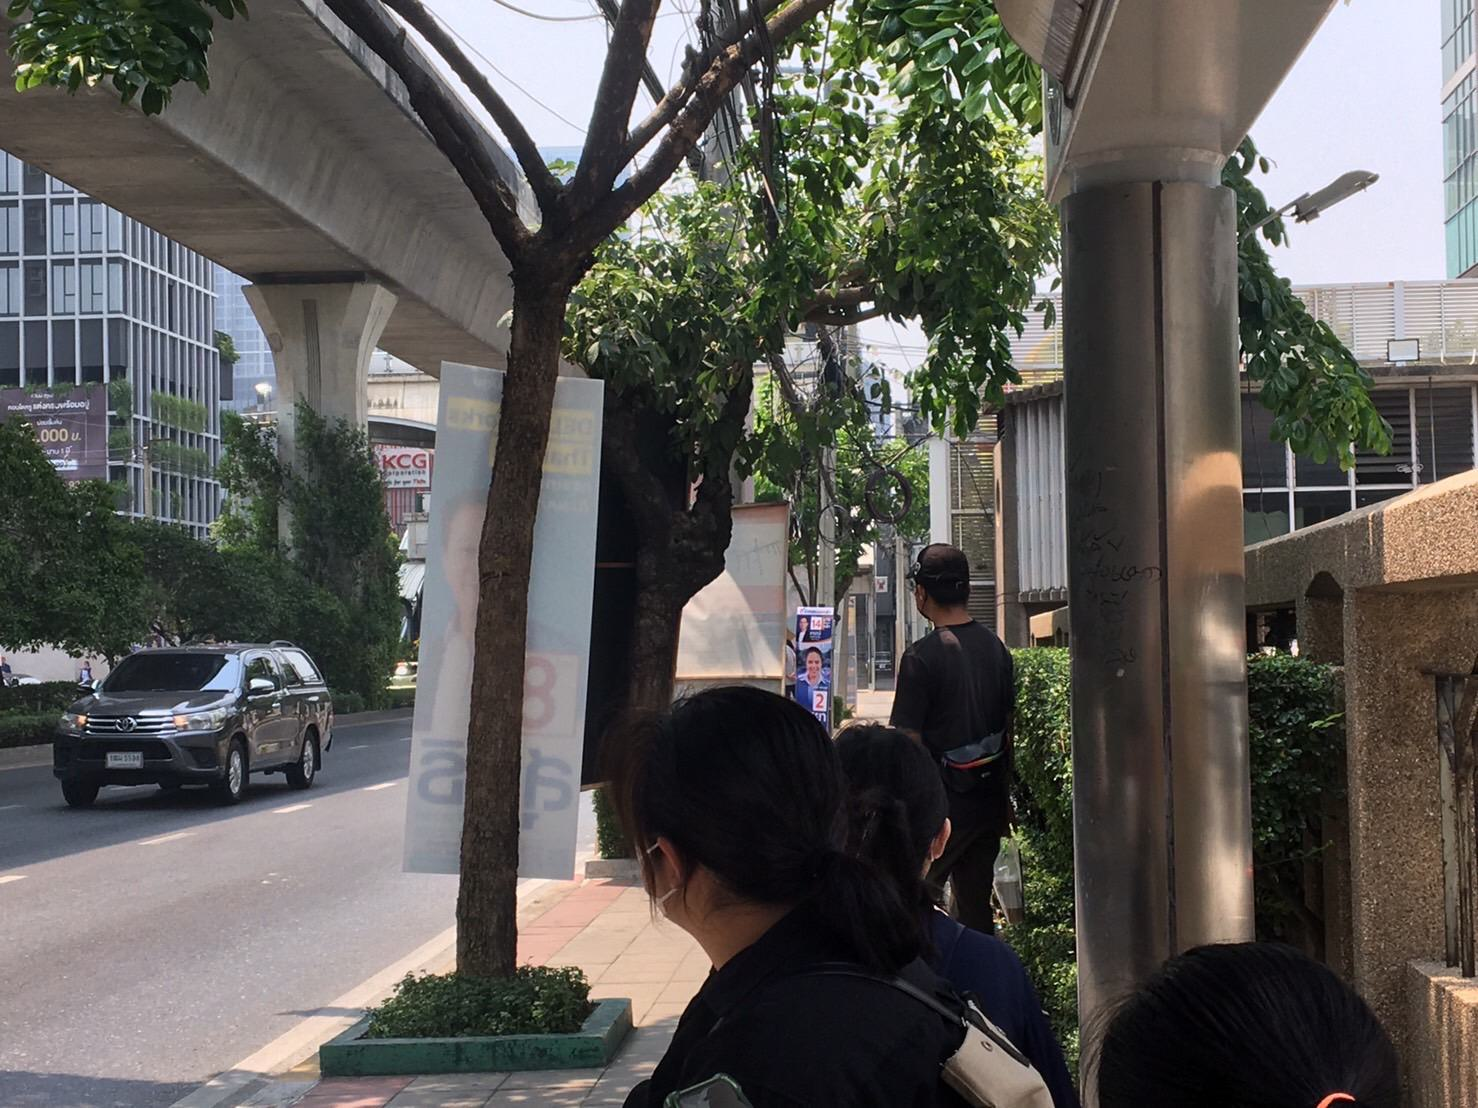Banner: (789, 604, 838, 719)
